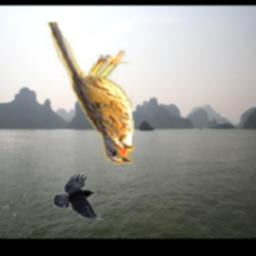Crow: (54, 174, 105, 220)
Sparrow: (48, 22, 135, 164)
